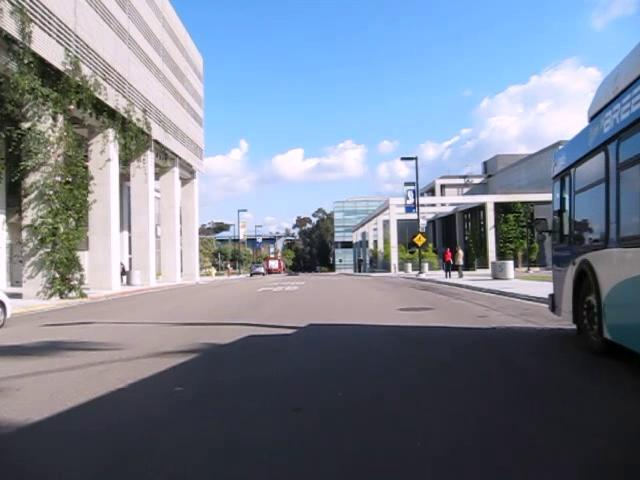pedestrianCrossing: (412, 231, 427, 247)
